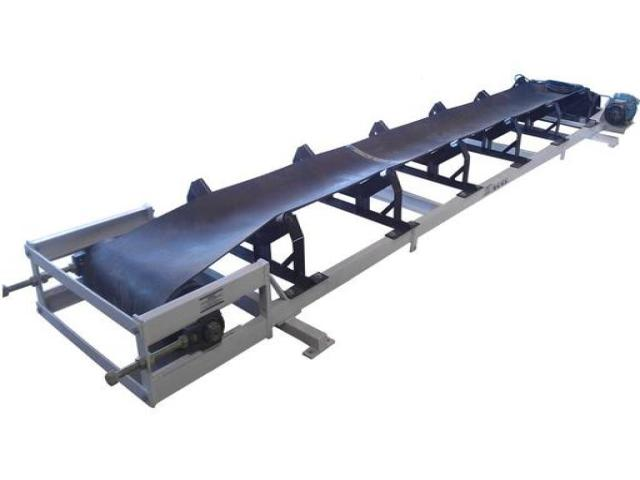conveyor: (4, 72, 636, 408)
